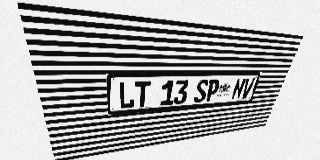1: (160, 80, 176, 106)
3: (173, 80, 189, 104)
L: (118, 81, 135, 109)
N: (231, 78, 246, 100)
P: (205, 79, 220, 102)
S: (193, 79, 209, 103)
T: (135, 81, 151, 108)
V: (240, 78, 255, 99)
